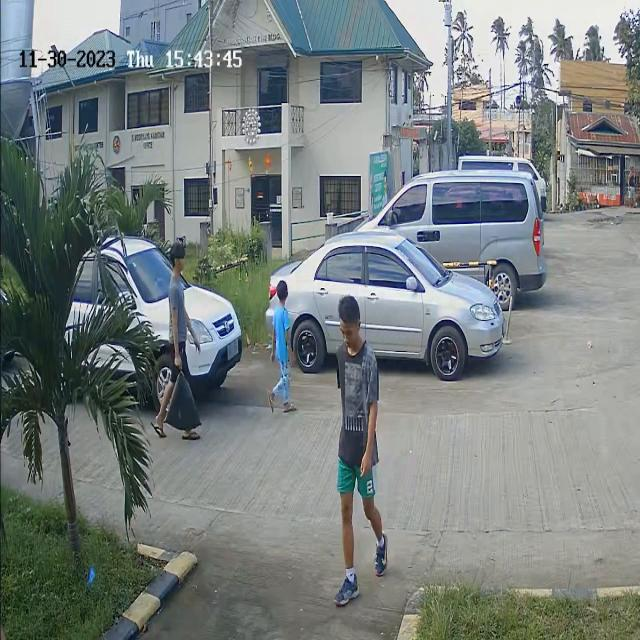garbage: (160, 376, 208, 436)
person: (338, 296, 382, 401), (165, 241, 193, 365), (270, 286, 294, 385)
